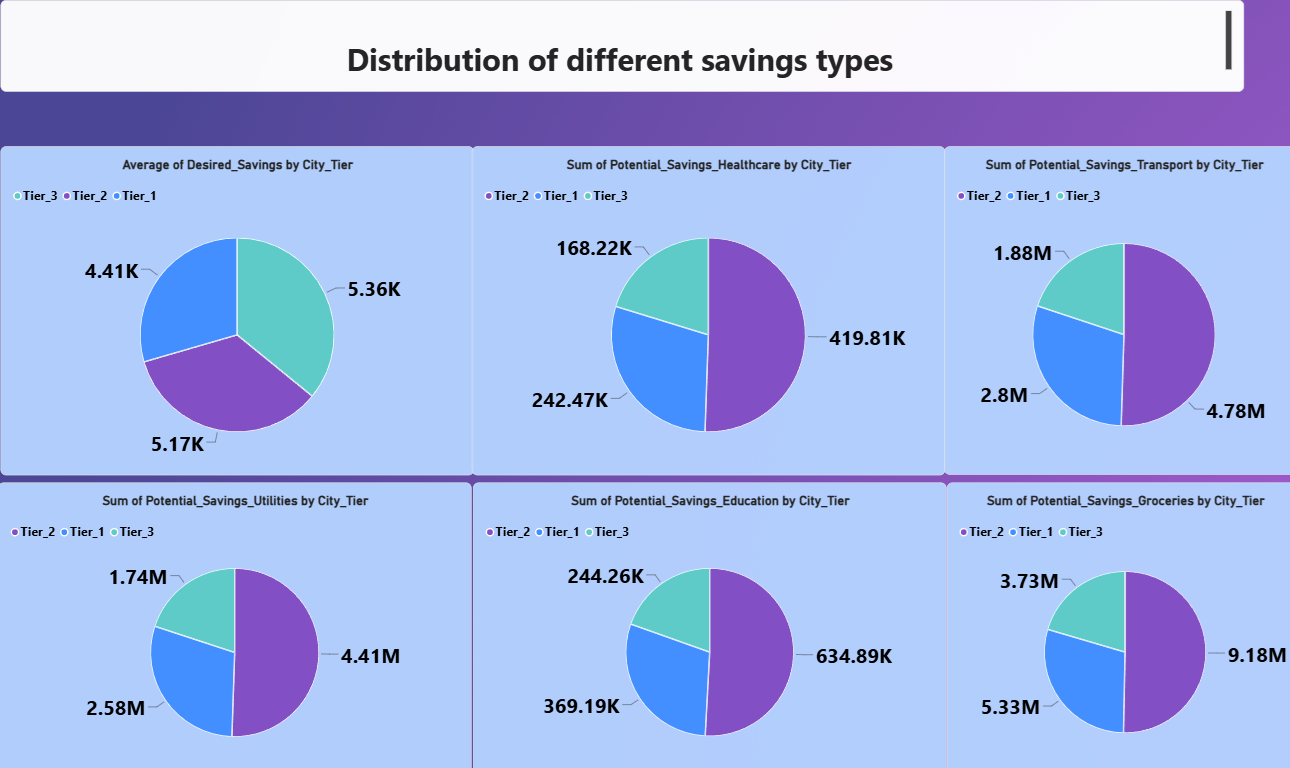

Layout of this report page (visuals, bound fields, positions):
{"tool":"powerbi","page":{"name":"Distribution of different sayings","canvas":[1920,1080],"ordinal":1},"visuals":[{"type":"textbox","box":[100.9,0,1735.2,127.6],"z":0},{"type":"pieChart","fields":{"Category":["data.City_Tier"],"Y":["Avg(data.Desired_Savings)"]},"box":[100.9,203.8,660.7,459],"z":1000},{"type":"pieChart","fields":{"Category":["data.City_Tier"],"Y":["Sum(data.Potential_Savings_Healthcare)"]},"box":[758.6,204,660.7,459],"z":2000},{"type":"pieChart","fields":{"Category":["data.City_Tier"],"Y":["Sum(data.Potential_Savings_Utilities)"]},"box":[98.5,673.8,661,407],"z":3000},{"type":"pieChart","fields":{"Category":["data.City_Tier"],"Y":["Sum(data.Potential_Savings_Education)"]},"box":[760.9,673.8,661,406],"z":4000},{"type":"pieChart","fields":{"Category":["data.City_Tier"],"Y":["Sum(data.Potential_Savings_Transport)"]},"box":[1418.6,204,501.9,458.3],"z":5000},{"type":"pieChart","fields":{"Category":["data.City_Tier"],"Y":["Sum(data.Potential_Savings_Groceries)"]},"box":[1422,674,498,406],"z":6000}]}

Visuals, with their boxes on the page's 1920x1080 design canvas (x1, y1, x2, y2). These are canvas units, not pixel positions in the 1290x768 screenshot, which may show the page scaled, cropped or inside an application window:
textbox: 101,0,1836,128
pieChart - data.City_Tier x Avg(data.Desired_Savings): 101,204,762,663
pieChart - data.City_Tier x Sum(data.Potential_Savings_Healthcare): 759,204,1419,663
pieChart - data.City_Tier x Sum(data.Potential_Savings_Utilities): 98,674,760,1081
pieChart - data.City_Tier x Sum(data.Potential_Savings_Education): 761,674,1422,1080
pieChart - data.City_Tier x Sum(data.Potential_Savings_Transport): 1419,204,1920,662
pieChart - data.City_Tier x Sum(data.Potential_Savings_Groceries): 1422,674,1920,1080
